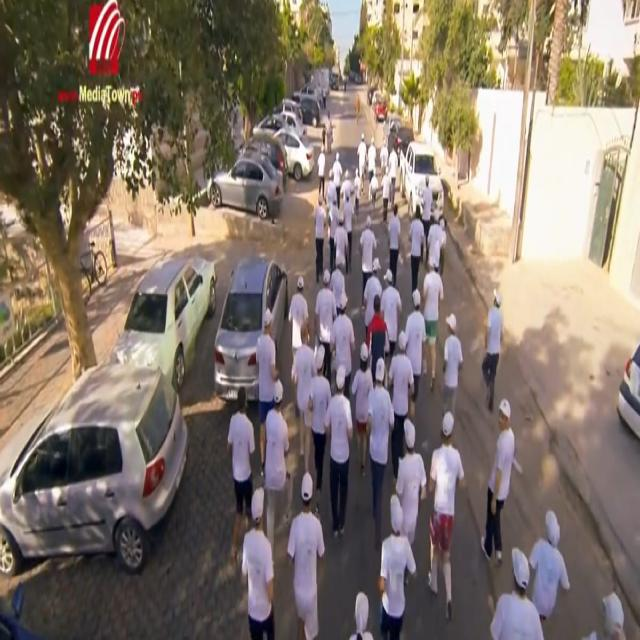humans: (429, 406, 467, 624), (287, 470, 325, 640), (238, 482, 278, 640), (377, 493, 419, 640), (480, 393, 514, 567), (487, 541, 546, 640), (536, 504, 574, 622), (329, 359, 353, 537), (370, 358, 395, 502), (263, 376, 291, 488), (228, 384, 256, 494), (442, 308, 470, 411), (395, 411, 426, 499), (354, 340, 373, 482), (483, 283, 504, 406), (404, 283, 428, 389), (424, 248, 442, 388), (394, 325, 416, 414), (254, 301, 279, 375), (333, 292, 357, 365), (382, 261, 405, 337), (407, 198, 426, 284), (316, 267, 335, 345), (388, 198, 405, 284), (310, 343, 330, 416), (293, 323, 313, 387), (333, 209, 352, 275), (311, 191, 327, 267), (369, 289, 388, 352), (286, 272, 310, 320), (359, 210, 378, 266), (428, 205, 445, 267), (362, 250, 384, 290), (355, 129, 367, 195), (315, 144, 327, 197), (329, 141, 343, 181), (382, 165, 392, 219), (367, 135, 378, 177), (423, 171, 431, 206)
